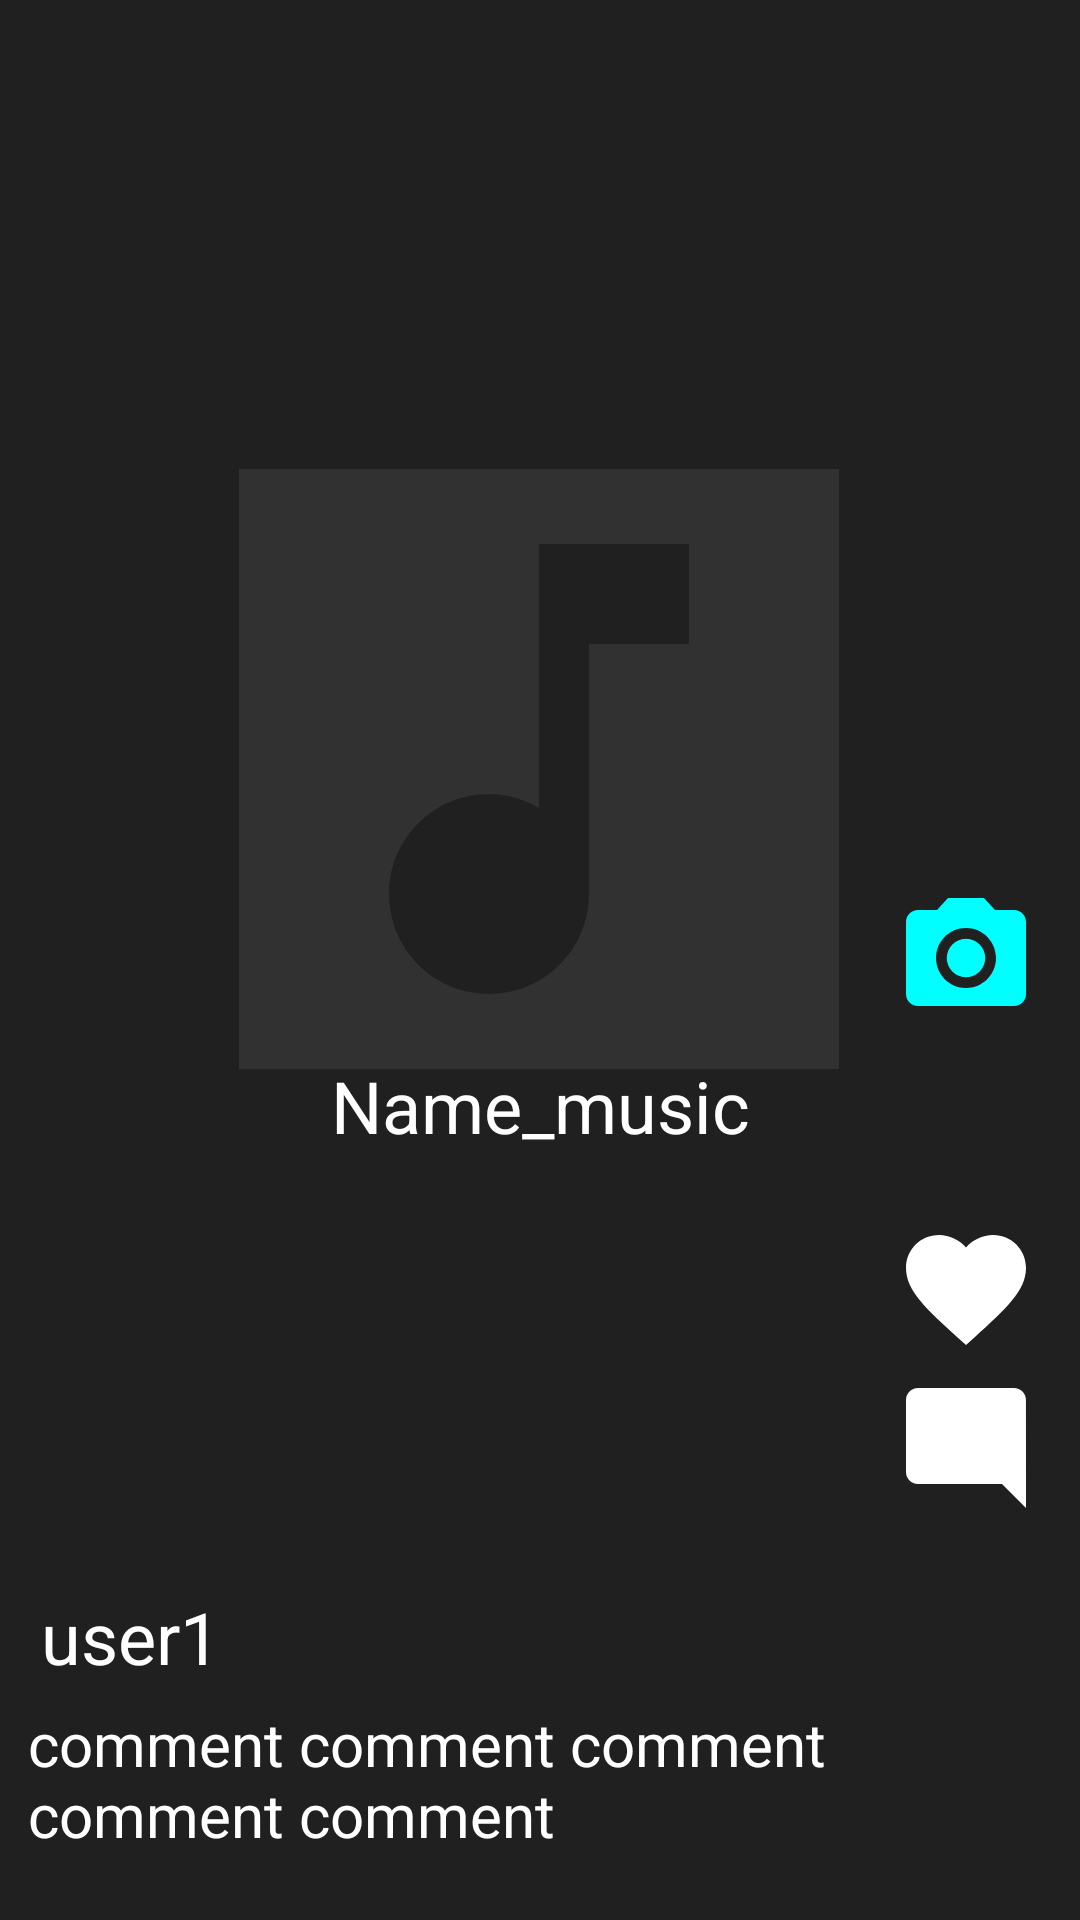

Icon click points for this 1080w x 1920h phone screenshot, format (x,y):
camera: (966,952)
like: (966,1290)
